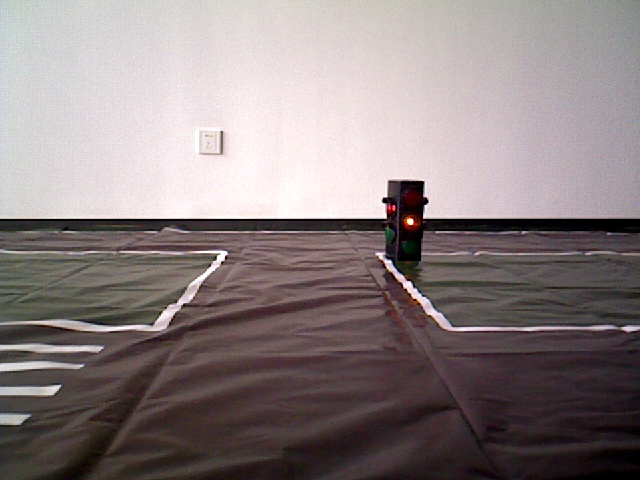yellow: (388, 176, 426, 260)
